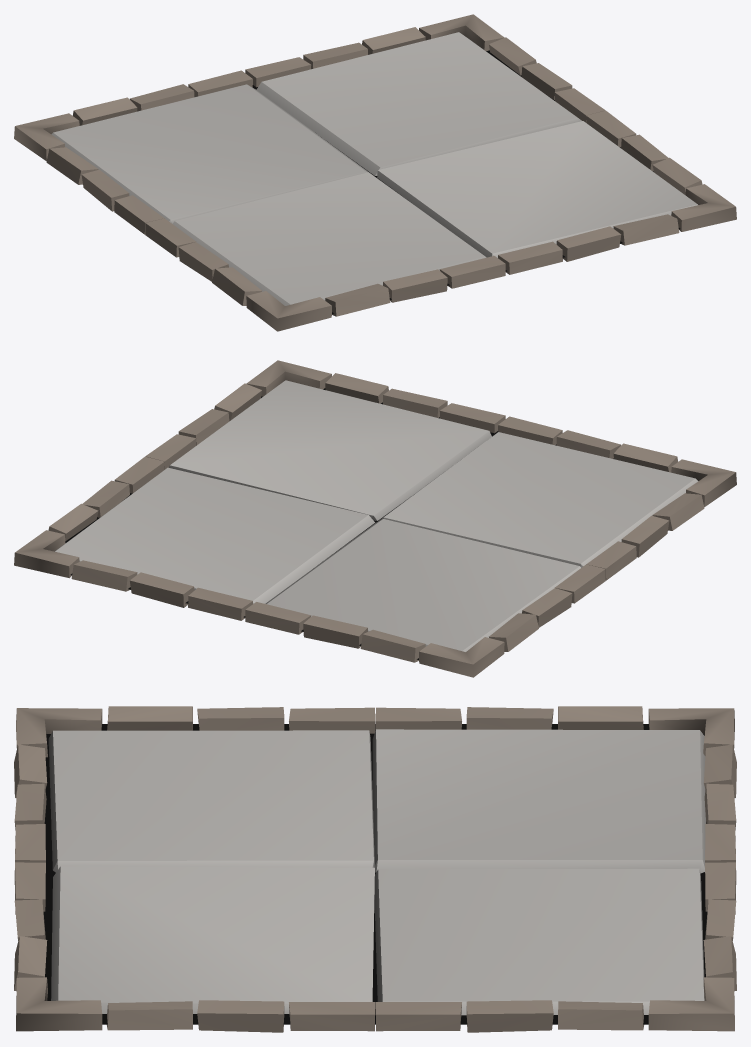
File: floor_tilesBig_frame_LOW.FBX
The picture shows the model from 3 angles, top to bottom: view 1: azimuth 30°, elevation 25°; view 2: azimuth 150°, elevation 25°; view 3: azimuth 270°, elevation 25°; orthographic projection. The views are drawn at different scales.
Parts seen in each view (by area): view 1: floor_tilesBig_frame_LOW; view 2: floor_tilesBig_frame_LOW; view 3: floor_tilesBig_frame_LOW.
Part boxes in pixels (x1,y1,x2,y2): floor_tilesBig_frame_LOW: (14, 14, 736, 331); floor_tilesBig_frame_LOW: (14, 360, 736, 677); floor_tilesBig_frame_LOW: (14, 706, 736, 1032).
Bounding box in the file's own units: 4.09 × 0.1409 × 4.06.
